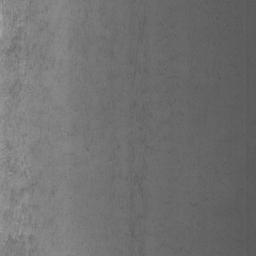Silk spot: (1, 0, 61, 256), (96, 101, 153, 256), (68, 0, 120, 112), (67, 120, 120, 165), (127, 52, 149, 85), (159, 57, 178, 84), (136, 14, 146, 43)
